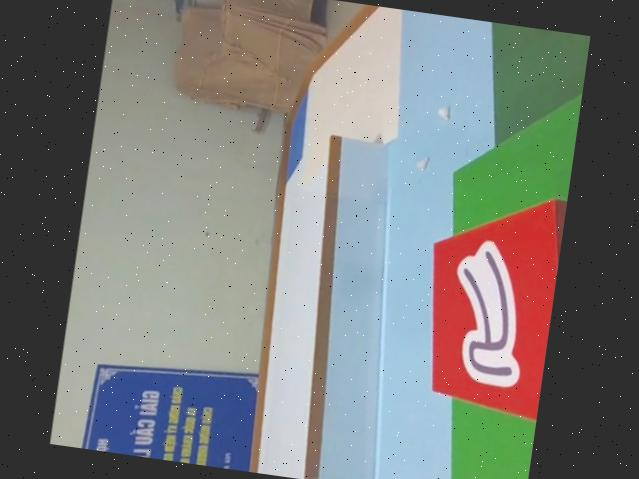R2 Fake: (405, 180, 567, 421)
